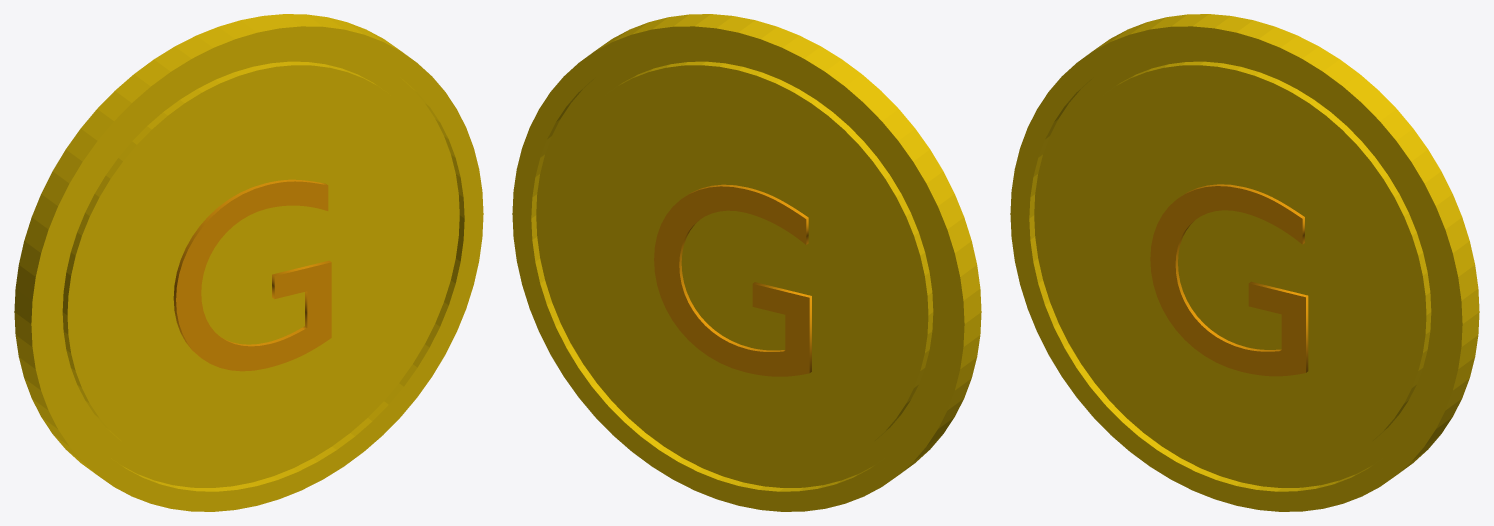
File: coin.glb
3 renders of one model, left to right at view 1: azimuth 30°, elevation 25°; view 2: azimuth 150°, elevation 25°; view 3: azimuth 330°, elevation 25°, orthographic.
Visible parts, largest first — view 1: 円柱, テキスト; view 2: 円柱, テキスト.001; view 3: 円柱, テキスト.
Boxes of the visible parts, x1,y1,x2,y2 form: 円柱: [14, 14, 483, 511]; テキスト: [173, 179, 331, 371]; 円柱: [512, 14, 981, 511]; テキスト.001: [654, 184, 811, 376]; 円柱: [1010, 14, 1479, 511]; テキスト: [1150, 184, 1308, 376].
Size of the model in its own units: 2 by 2 by 0.1662.
